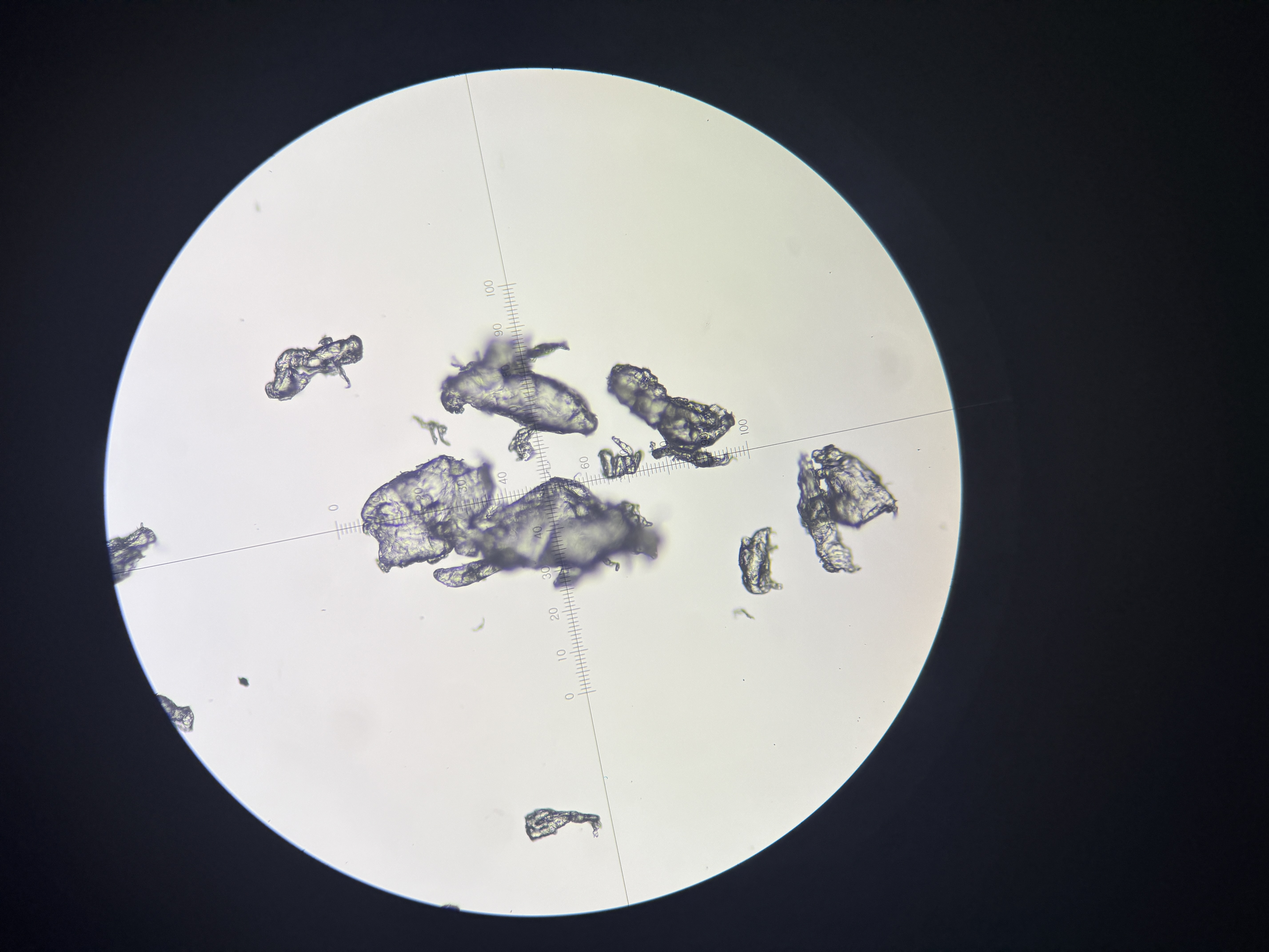microplastic: (481, 477, 660, 588), (360, 455, 506, 574), (438, 335, 600, 439), (605, 363, 736, 447), (795, 451, 864, 574), (810, 444, 899, 530), (263, 334, 365, 402), (104, 522, 158, 586), (738, 526, 784, 596), (524, 807, 604, 843), (649, 440, 739, 469), (433, 558, 504, 588), (154, 692, 195, 733), (597, 448, 644, 480), (412, 415, 451, 448), (508, 427, 538, 462), (612, 436, 634, 456), (732, 607, 756, 621), (471, 616, 486, 632), (237, 676, 250, 688), (441, 904, 460, 912), (601, 557, 614, 567), (615, 563, 619, 572)
